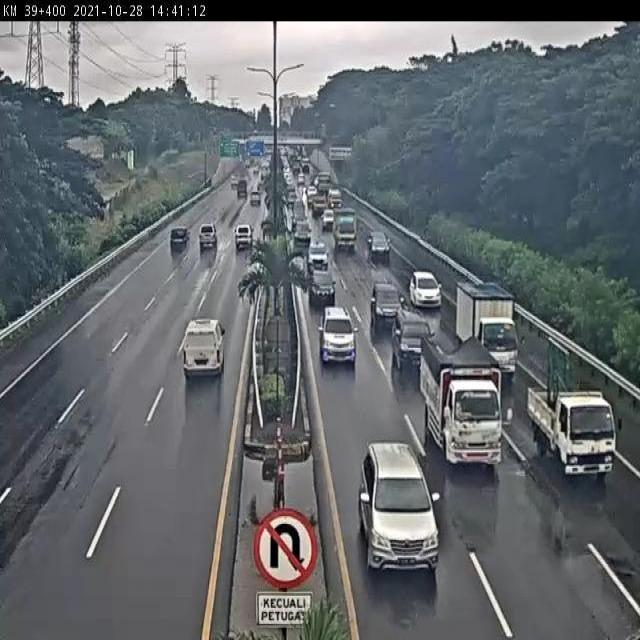car: (358, 442, 439, 570), (391, 309, 435, 375), (182, 318, 226, 382), (318, 304, 358, 367), (370, 283, 405, 329), (408, 269, 443, 311), (309, 269, 336, 308)
mid truck: (167, 225, 192, 256), (196, 223, 220, 252), (306, 240, 329, 269), (233, 223, 255, 249)
truck-m-: (419, 334, 504, 470)
truck-s-: (525, 384, 615, 480), (457, 280, 518, 381)
